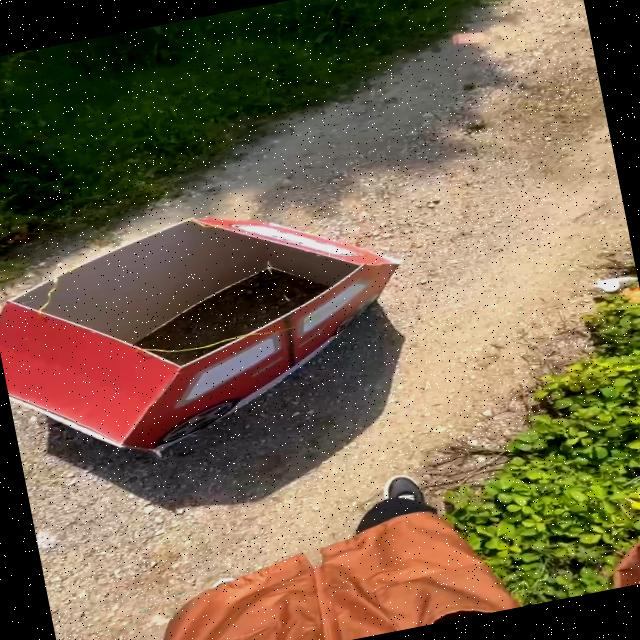red_car: (0, 164, 446, 490)
